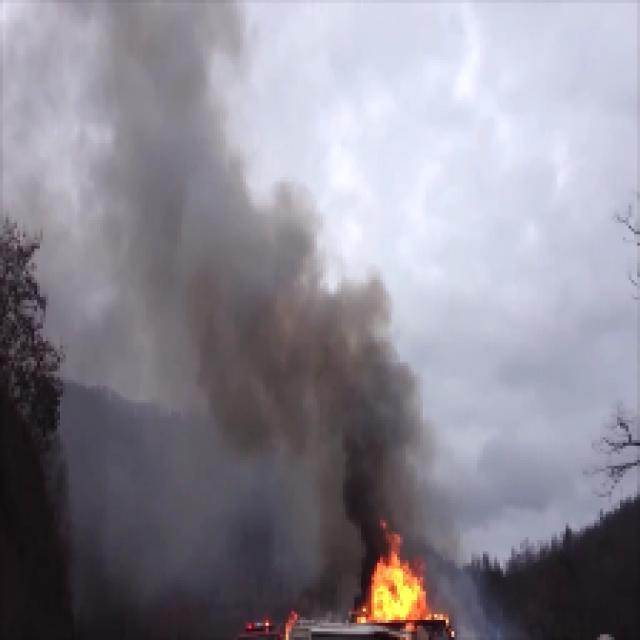fire: (365, 554, 430, 620)
smoke: (157, 196, 313, 403), (334, 332, 419, 547)
